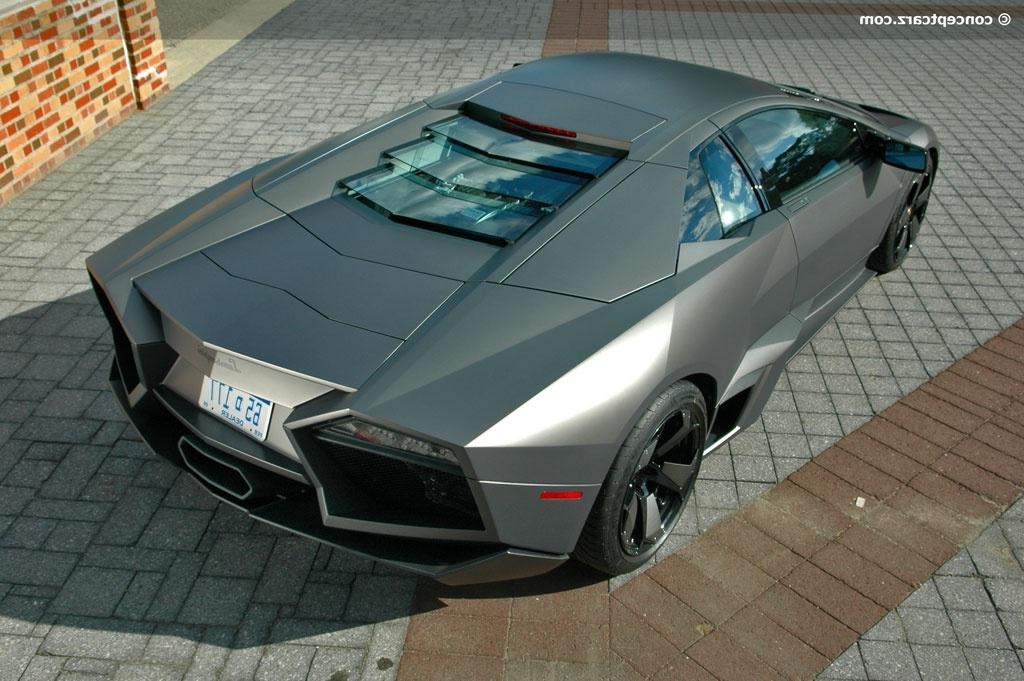Car: (73, 25, 968, 611)
